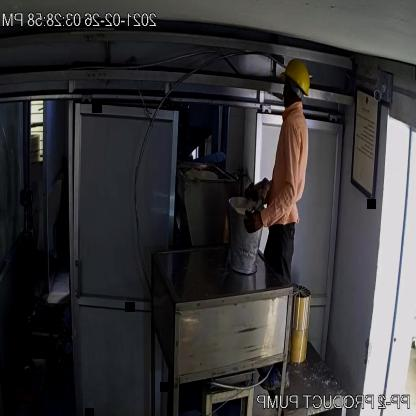helmet: (278, 56, 310, 99)
